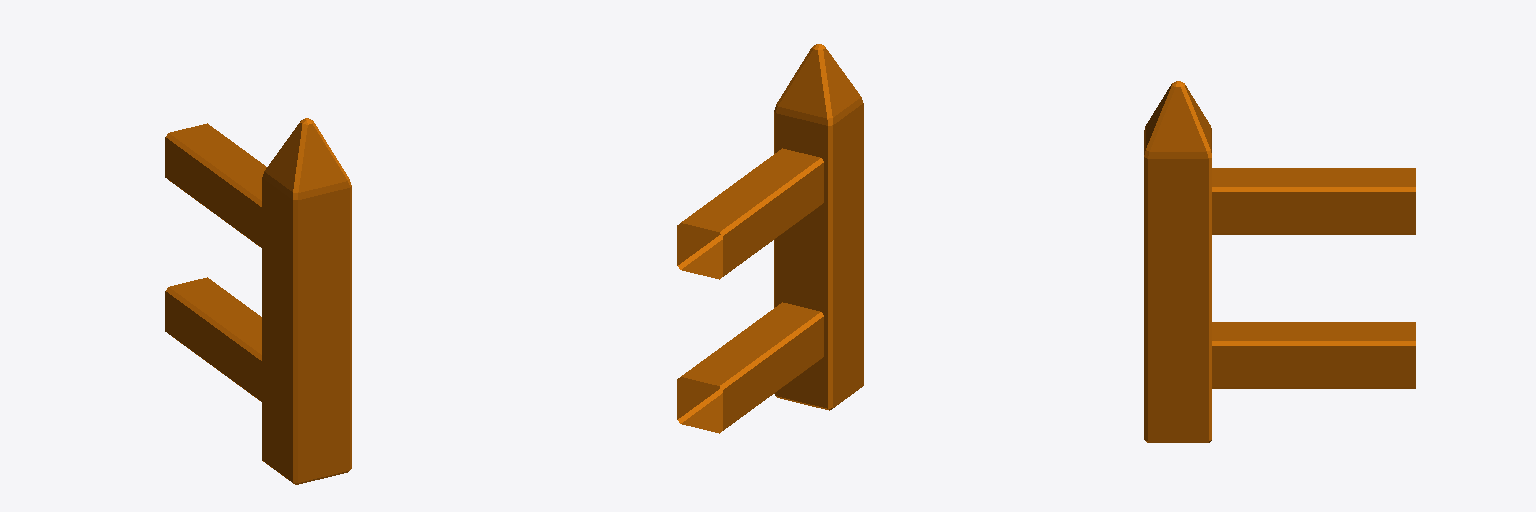
Rendered from Fence_02.obj.
The picture shows the model from 3 angles: view 1: azimuth 30°, elevation 25°; view 2: azimuth 150°, elevation 25°; view 3: azimuth 270°, elevation 25°; orthographic projection.
Visible parts, largest first — view 1: Fence_02_Cube.001; view 2: Fence_02_Cube.001; view 3: Fence_02_Cube.001.
Part boxes in pixels (bbox=[...]): Fence_02_Cube.001: bbox=[165, 118, 351, 484]; Fence_02_Cube.001: bbox=[677, 44, 863, 433]; Fence_02_Cube.001: bbox=[1144, 81, 1415, 442].
Bounding box in the file's own units: 0.3287 × 1.86 × 1.31.